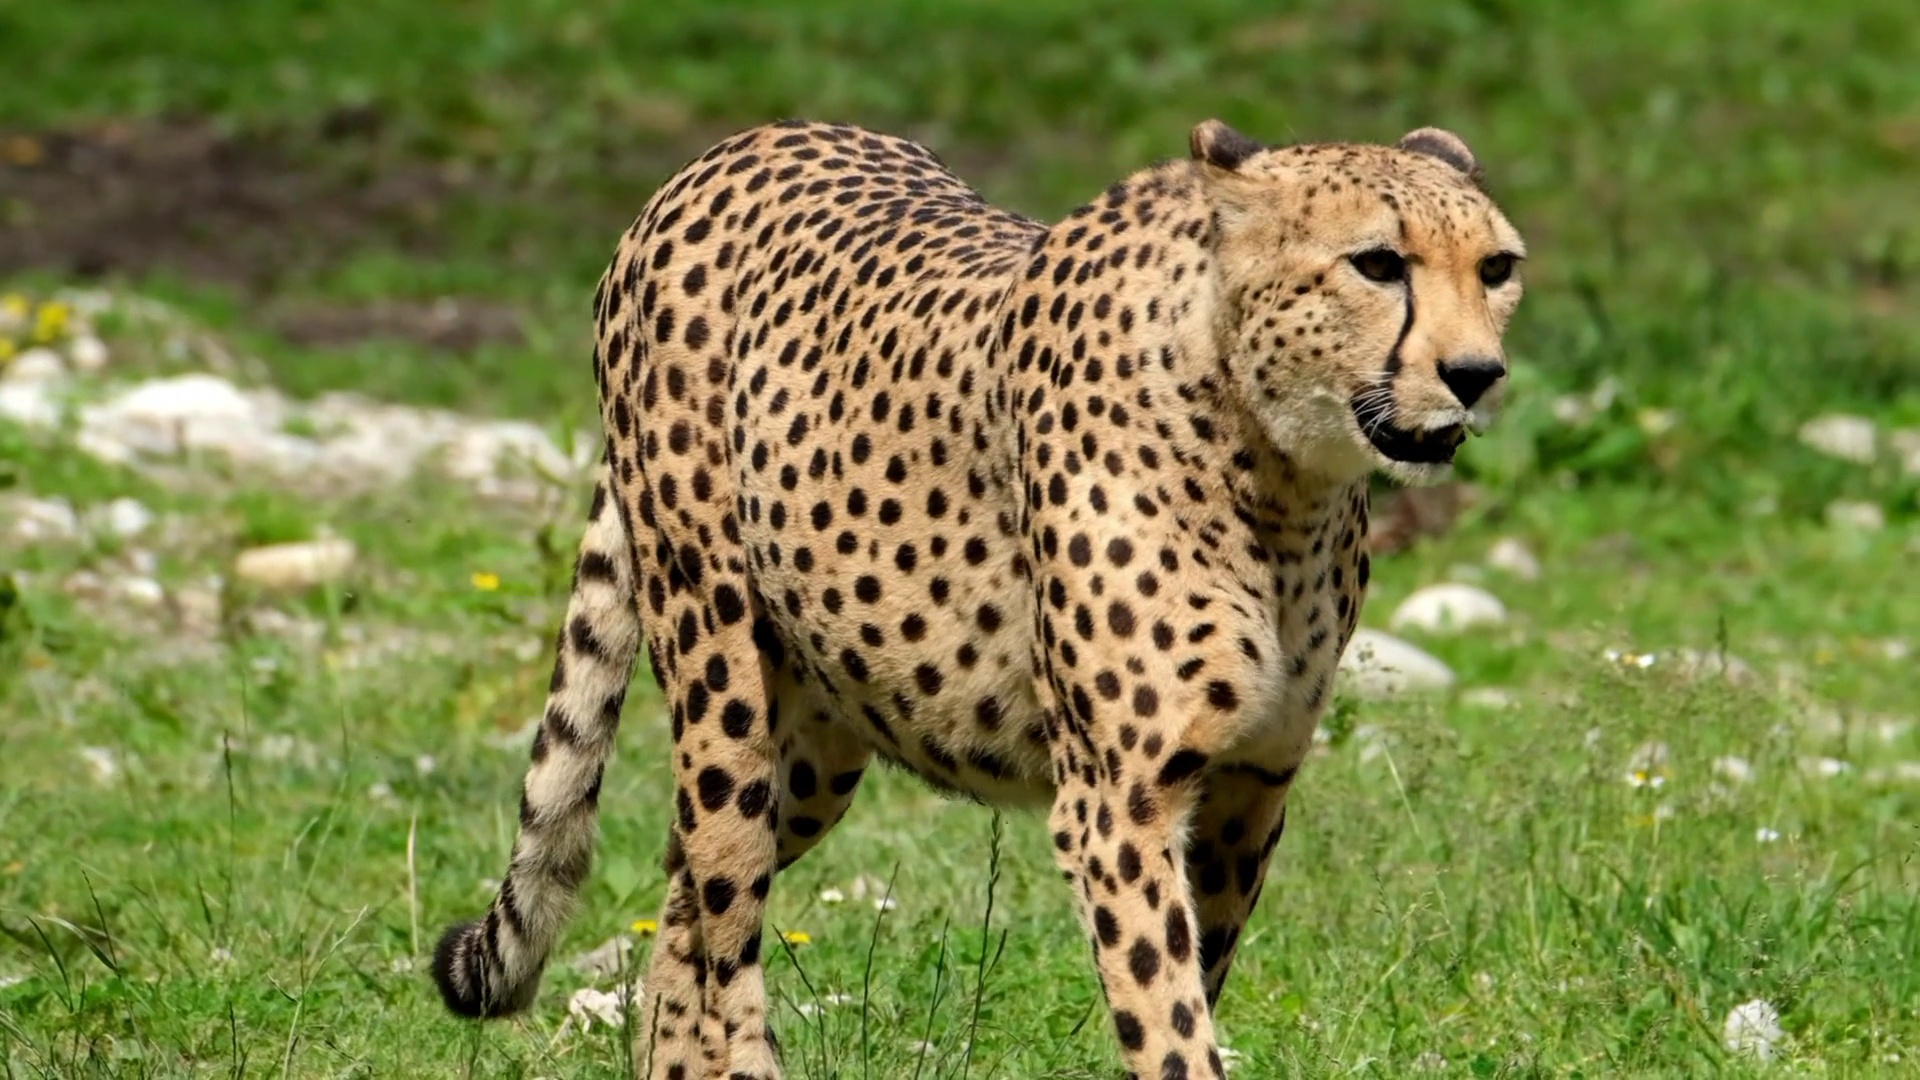Cheetah: (419, 111, 1528, 1080)
